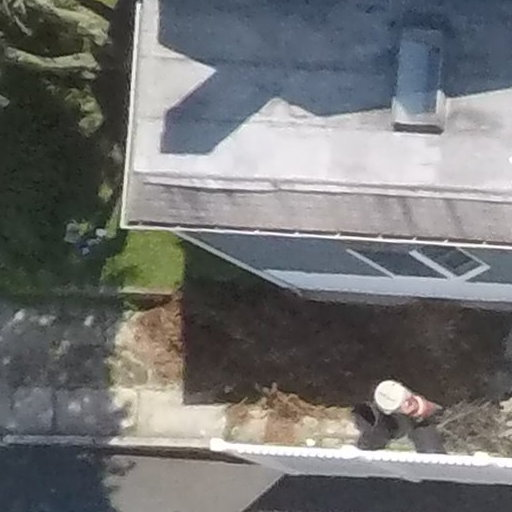container: (344, 389, 383, 432), (375, 379, 410, 413), (379, 413, 419, 441)
fence: (217, 429, 512, 509)
trash bin: (354, 399, 385, 430), (380, 409, 409, 441)
